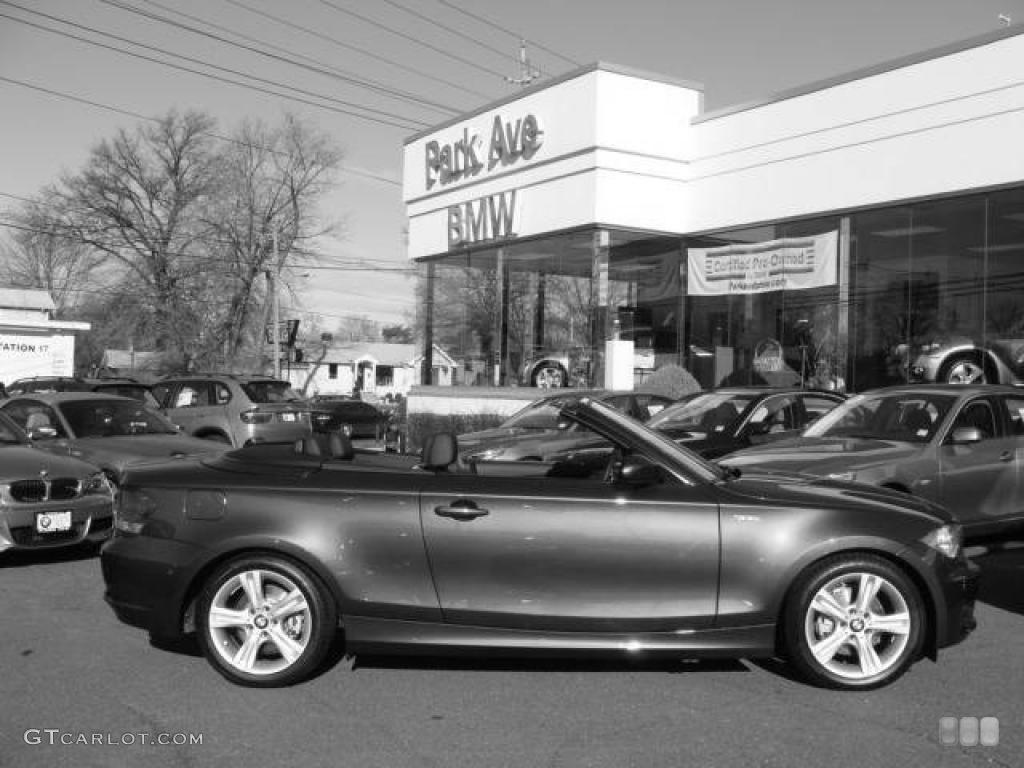car: (105, 400, 978, 692)
